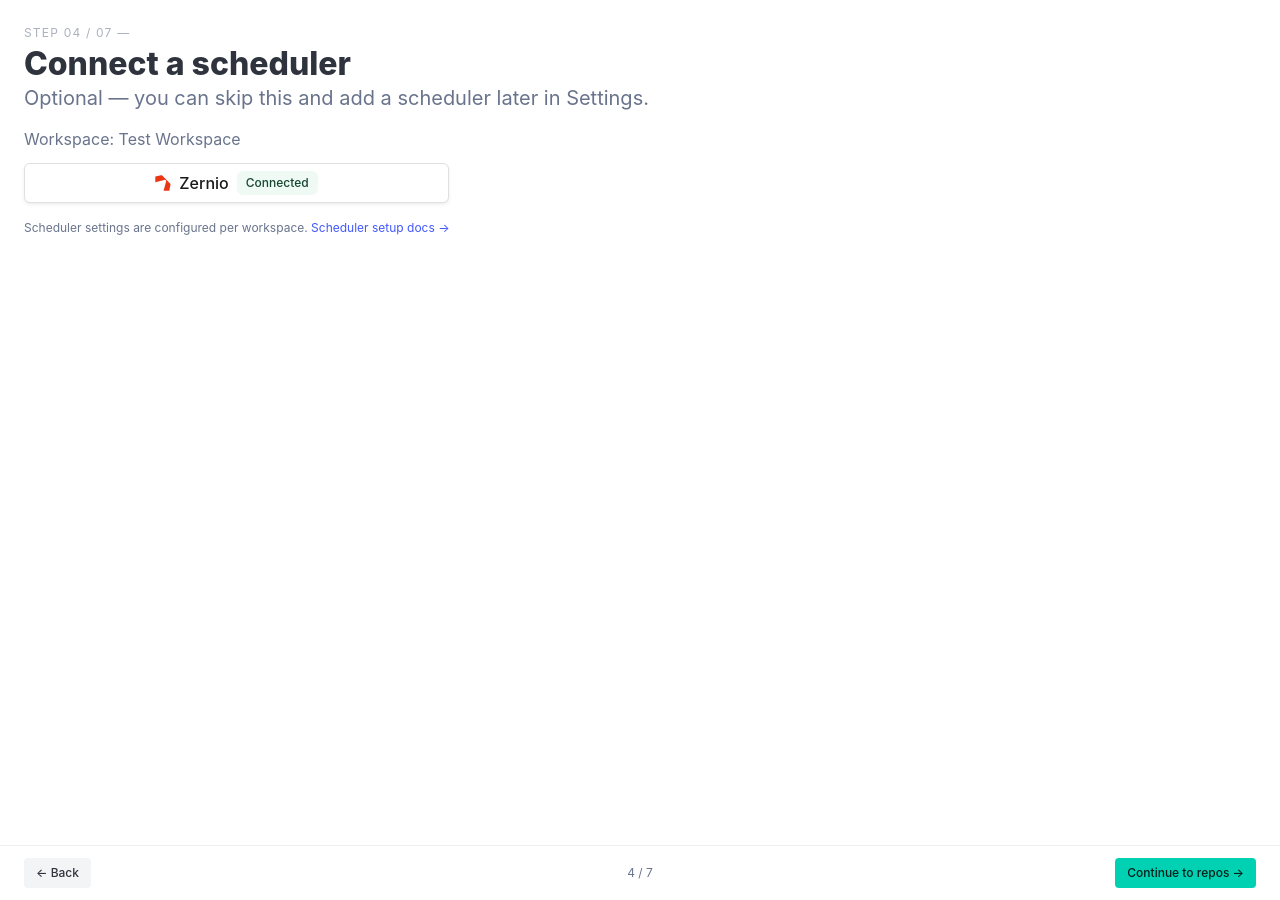
Test: ModalScheduler — pre-connected providers › clicking a pre-connected button still opens key entry
Click the button "Zernio Connected": (236,183) 24,163 -> 449,203
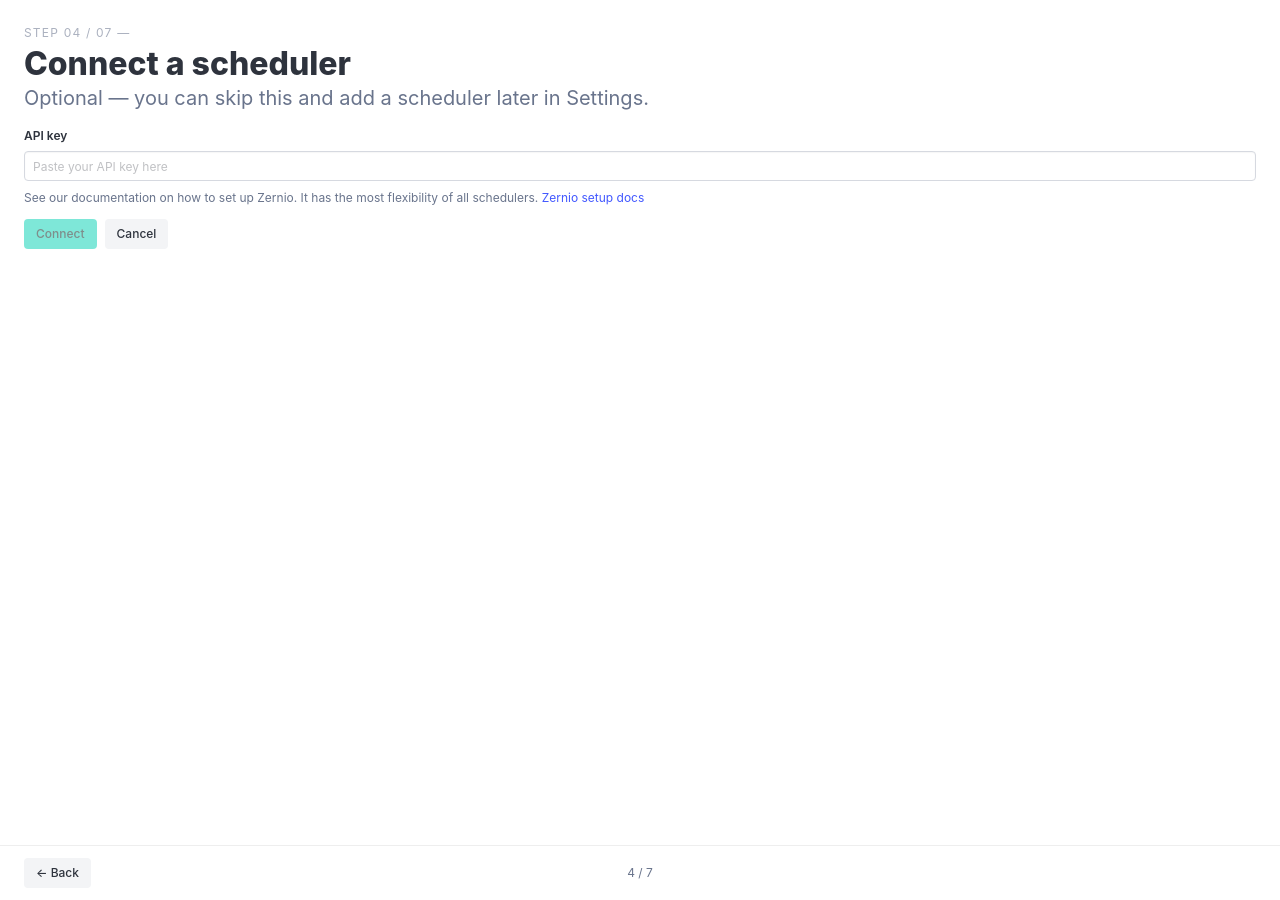
expect the field is shown: met, box 24,151 -> 1256,181
